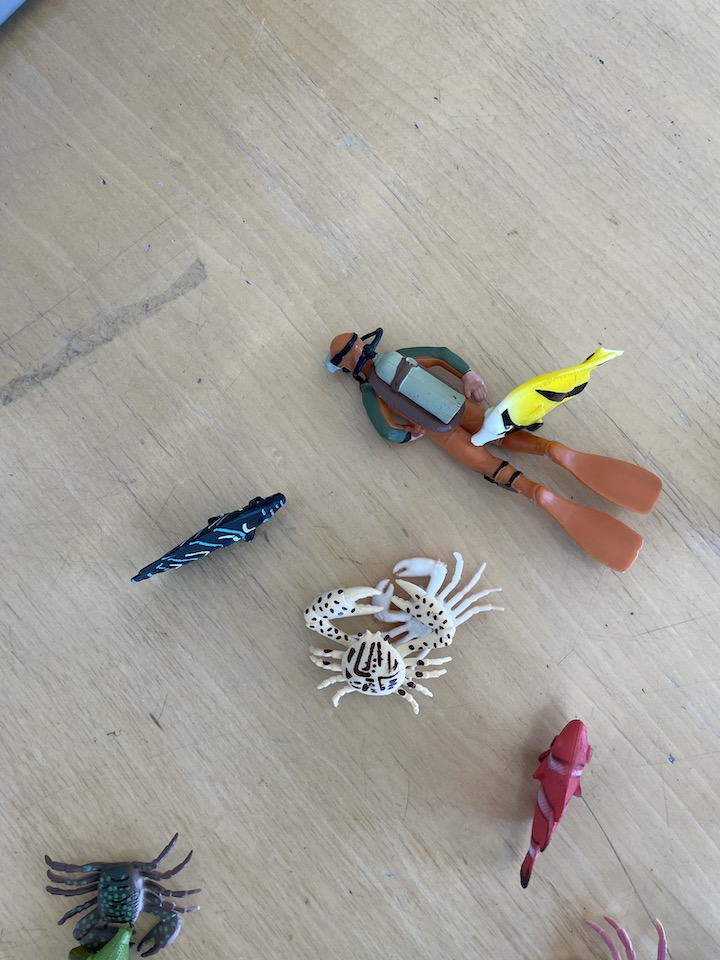crab: (303, 575, 461, 717), (41, 831, 203, 960), (364, 544, 512, 657), (573, 912, 672, 960)
danger: (466, 339, 631, 449)
diver: (321, 326, 667, 581)
fish: (125, 486, 293, 586), (515, 712, 598, 896), (85, 923, 143, 960)
